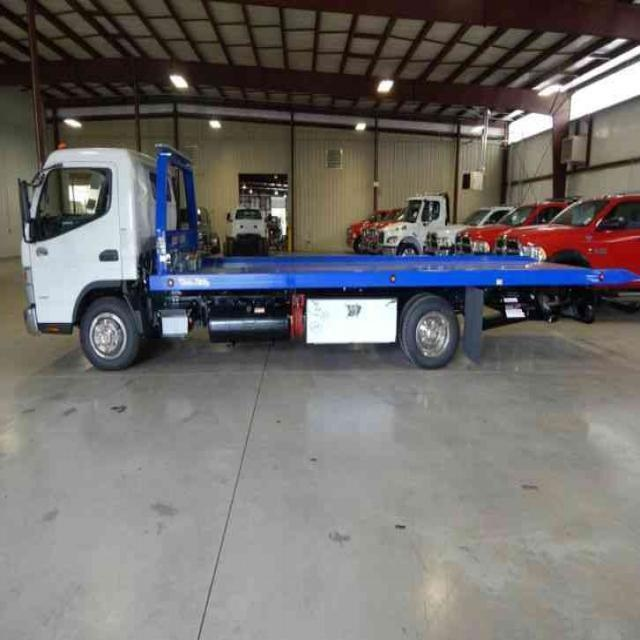Car: (512, 194, 640, 303), (464, 190, 518, 274), (383, 188, 433, 268), (220, 203, 270, 259)
Truck: (13, 146, 639, 368)
